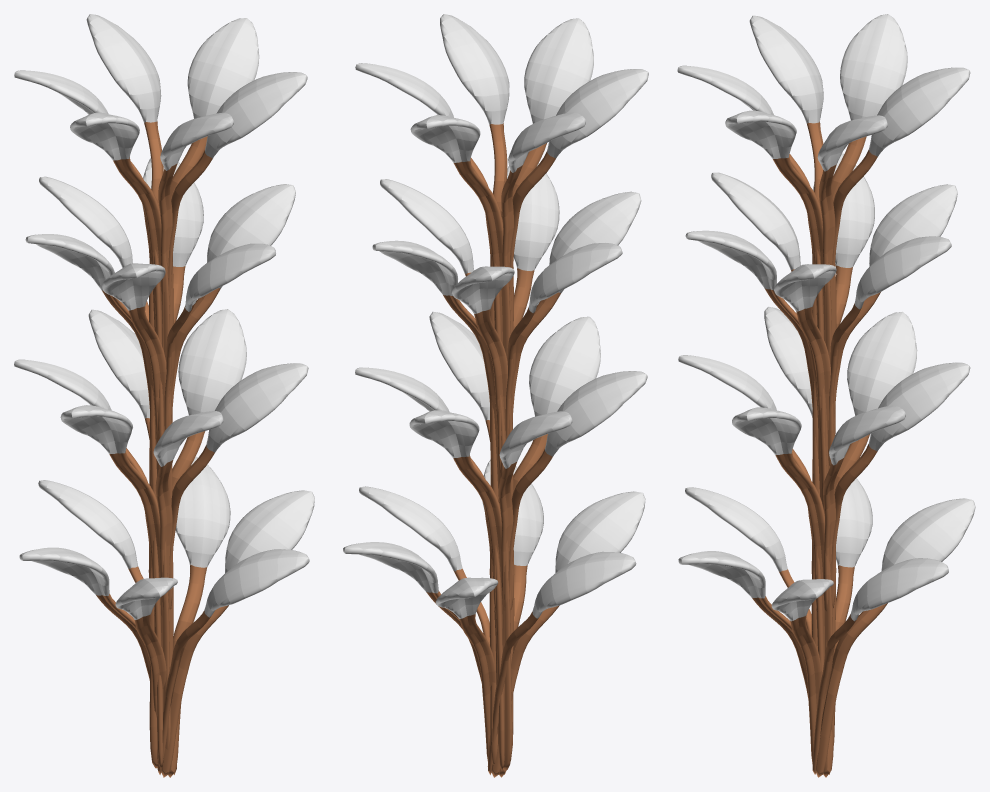
File: Planta_Alta.fbx
3 renders of one model, left to right at view 1: azimuth 30°, elevation 25°; view 2: azimuth 150°, elevation 25°; view 3: azimuth 270°, elevation 25°, orthographic.
Parts seen in each view (by area): view 1: Sphere.041; view 2: Sphere.041; view 3: Sphere.041.
Boxes of the visible parts, x1,y1,x2,y2 form: Sphere.041: (14,14,314,777); Sphere.041: (343,14,648,777); Sphere.041: (677,14,975,777).
Bounding box in the file's own units: 2368 × 5649 × 2166.
